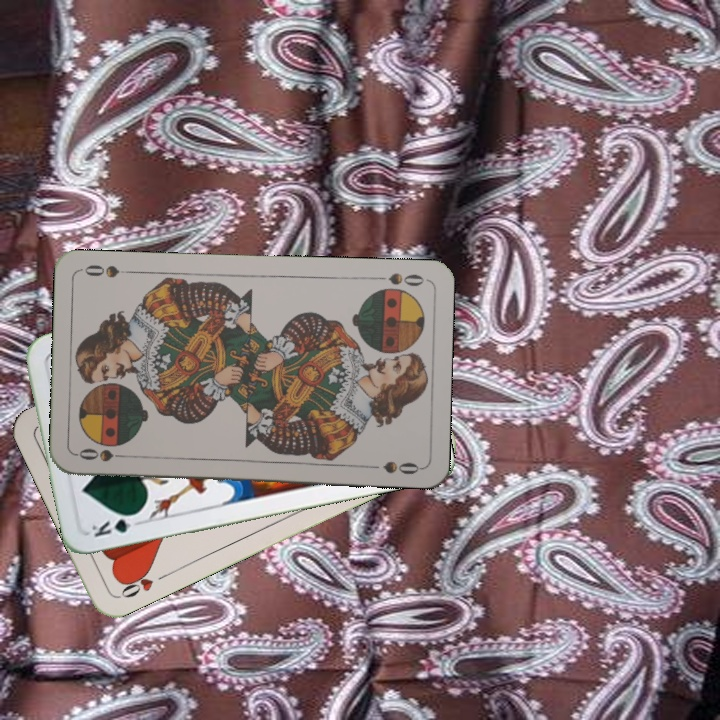GK: (87, 509, 145, 540)
HO: (115, 565, 171, 601)
SO: (74, 444, 133, 465), (369, 269, 426, 289)
